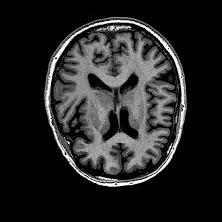Normal_Brain: (3, 1, 222, 222)
